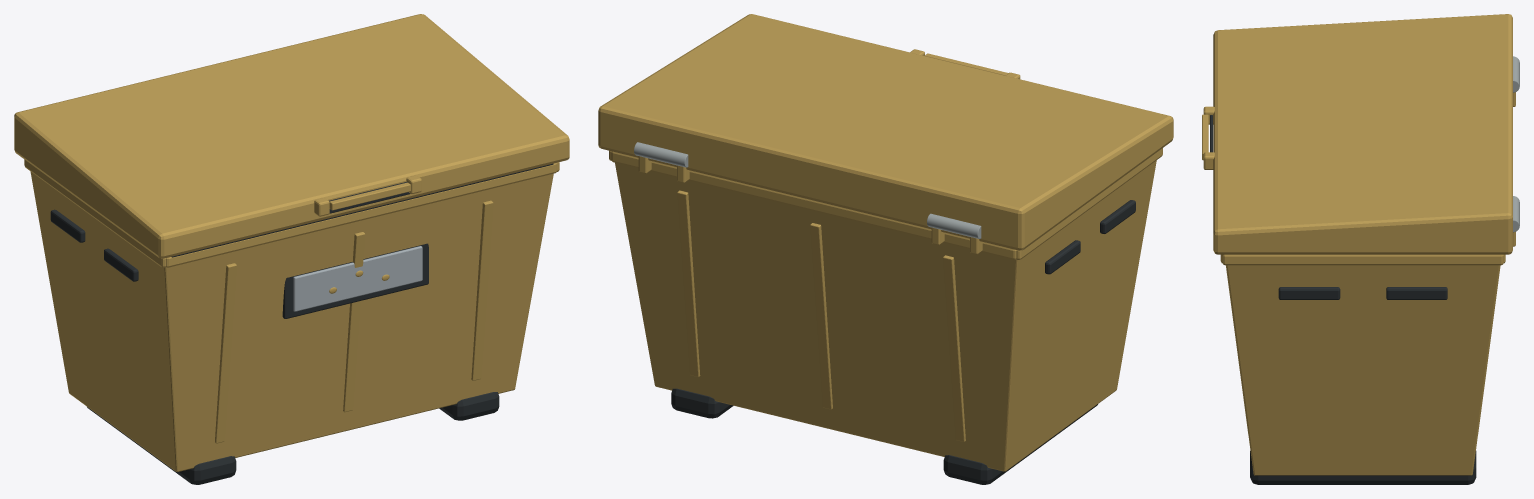
File: city-grit-storage-bin.glb
3 views of the same model, side by side, from view 1: azimuth 30°, elevation 25°; view 2: azimuth 150°, elevation 25°; view 3: azimuth 270°, elevation 25° (orthographic). The views are drawn at different scales.
Parts seen in each view (by area): view 1: Assembly | Molded warm ochre polyethylene, Assembly | Recess shadow metal, Assembly | Brushed stainless steel; view 2: Assembly | Molded warm ochre polyethylene, Assembly | Recess shadow metal, Assembly | Galvanized hardware; view 3: Assembly | Molded warm ochre polyethylene, Assembly | Recess shadow metal, Assembly | Galvanized hardware.
Boxes of the visible parts, x1,y1,x2,y2 form: Assembly | Molded warm ochre polyethylene: (14,14,569,471); Assembly | Recess shadow metal: (50,163,553,484); Assembly | Brushed stainless steel: (293,246,422,311); Assembly | Molded warm ochre polyethylene: (598,14,1173,471); Assembly | Recess shadow metal: (671,200,1135,484); Assembly | Galvanized hardware: (634,142,981,238); Assembly | Molded warm ochre polyethylene: (1202,14,1515,475); Assembly | Recess shadow metal: (1210,115,1476,484); Assembly | Galvanized hardware: (1513,56,1519,232).
Bounding box in the file's own units: 1.25 × 0.8573 × 0.8275.
